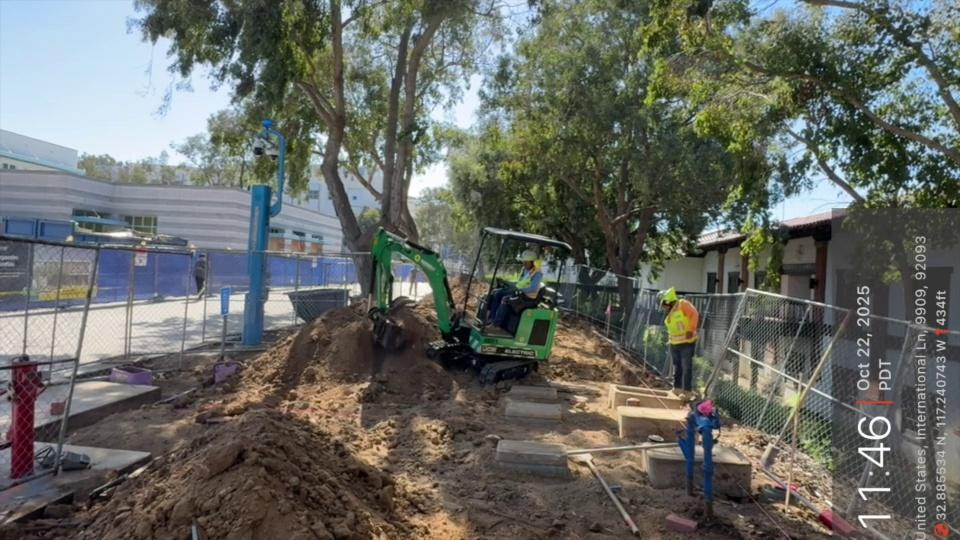Exacavator: (364, 223, 574, 391)
